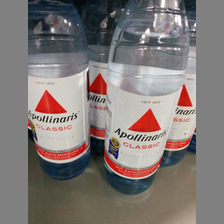water: (102, 1, 189, 195), (28, 1, 91, 182)
